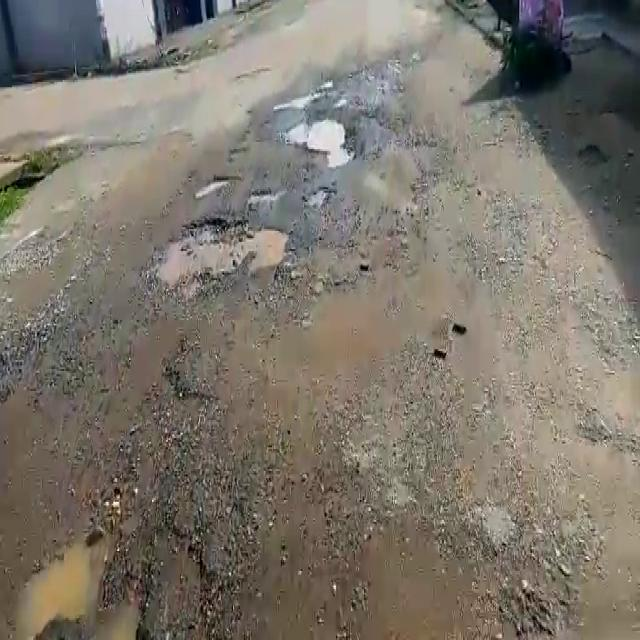Pothole: (17, 526, 139, 640), (142, 215, 288, 293), (280, 114, 352, 162), (192, 171, 243, 198), (282, 93, 322, 113), (246, 188, 281, 204)
